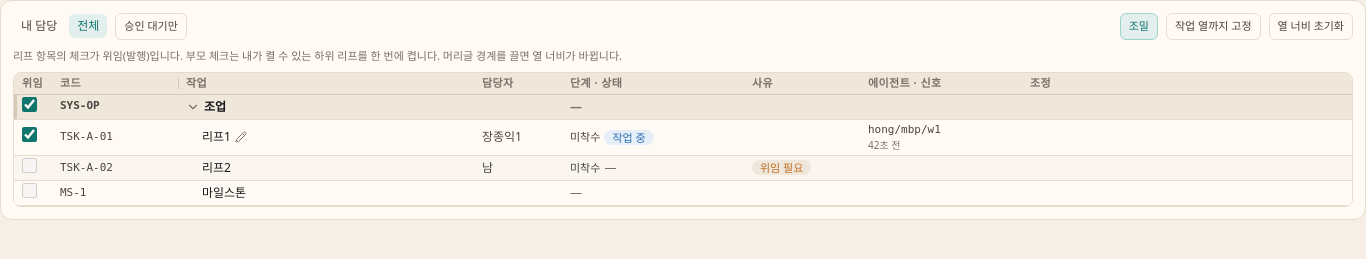
Test: DelegationTable — 체크는 즉시 표시·잠기지 않음, 1.5초 모아 묶음 1건, 응답의 허브로 교체(2026-09-14 체크 지연 개선) › 묶음 전체 거부(ok:false) → 보낸 행마다 그 문구, 되돌림
What coordinates should you click on to do the following:
click the checkbox named "TSK-A-01 위임"
I would click on:
 (30, 135)
Its box is [22,127,37,142].
Wait 1500 ms
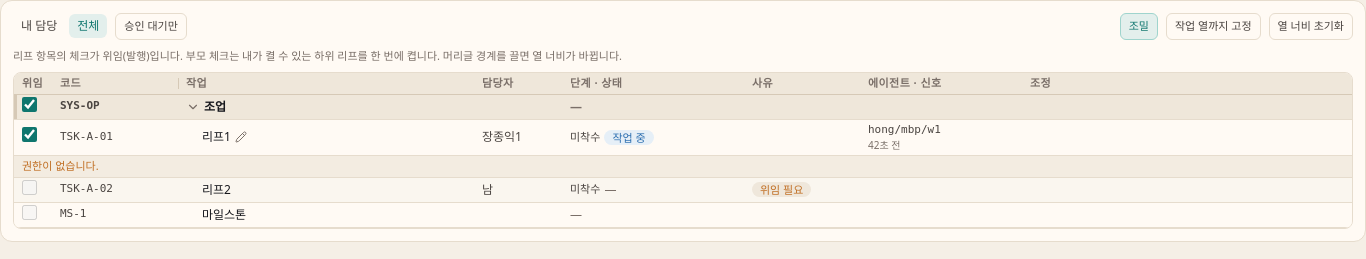
Now the text "권한이 없습니다." is shown, box [22,158,99,173]
